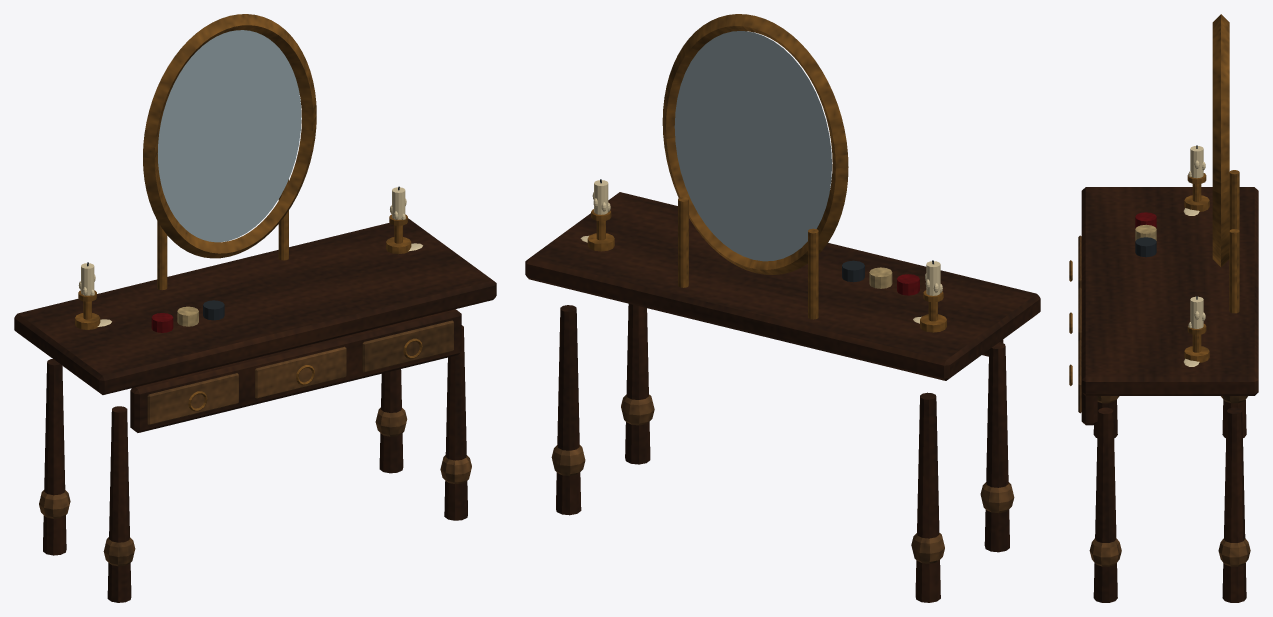
Rendered from vanity_table.glb.
3 views of the same model, side by side, from view 1: azimuth 30°, elevation 25°; view 2: azimuth 150°, elevation 25°; view 3: azimuth 270°, elevation 25° (orthographic). The views are drawn at different scales.
Parts seen in each view (by area): view 1: vanity_table; view 2: vanity_table; view 3: vanity_table.
Part boxes in pixels (box(x1,y1,x2,y2)): vanity_table: box(14, 14, 496, 602); vanity_table: box(525, 14, 1040, 602); vanity_table: box(1069, 14, 1258, 602).
Size of the model in its own units: 1.7 by 2.04 by 0.706.
Materials: 8 (5 with a texture image).
